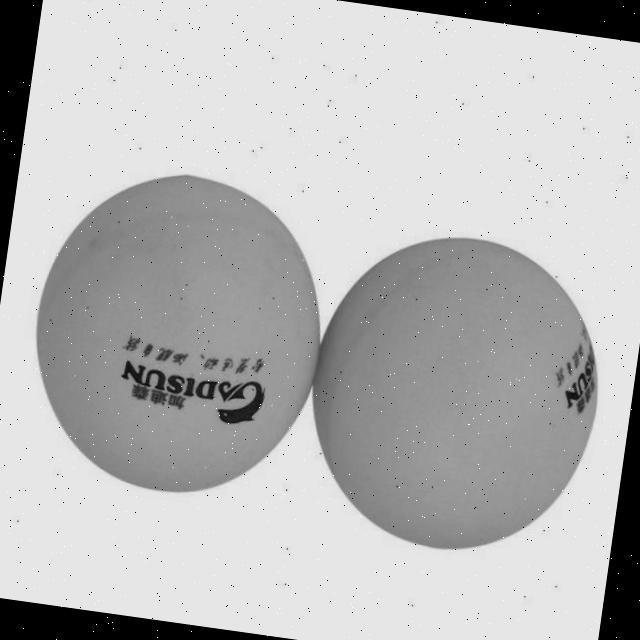ping-pong-ball: (9, 150, 346, 517), (287, 214, 623, 574)
